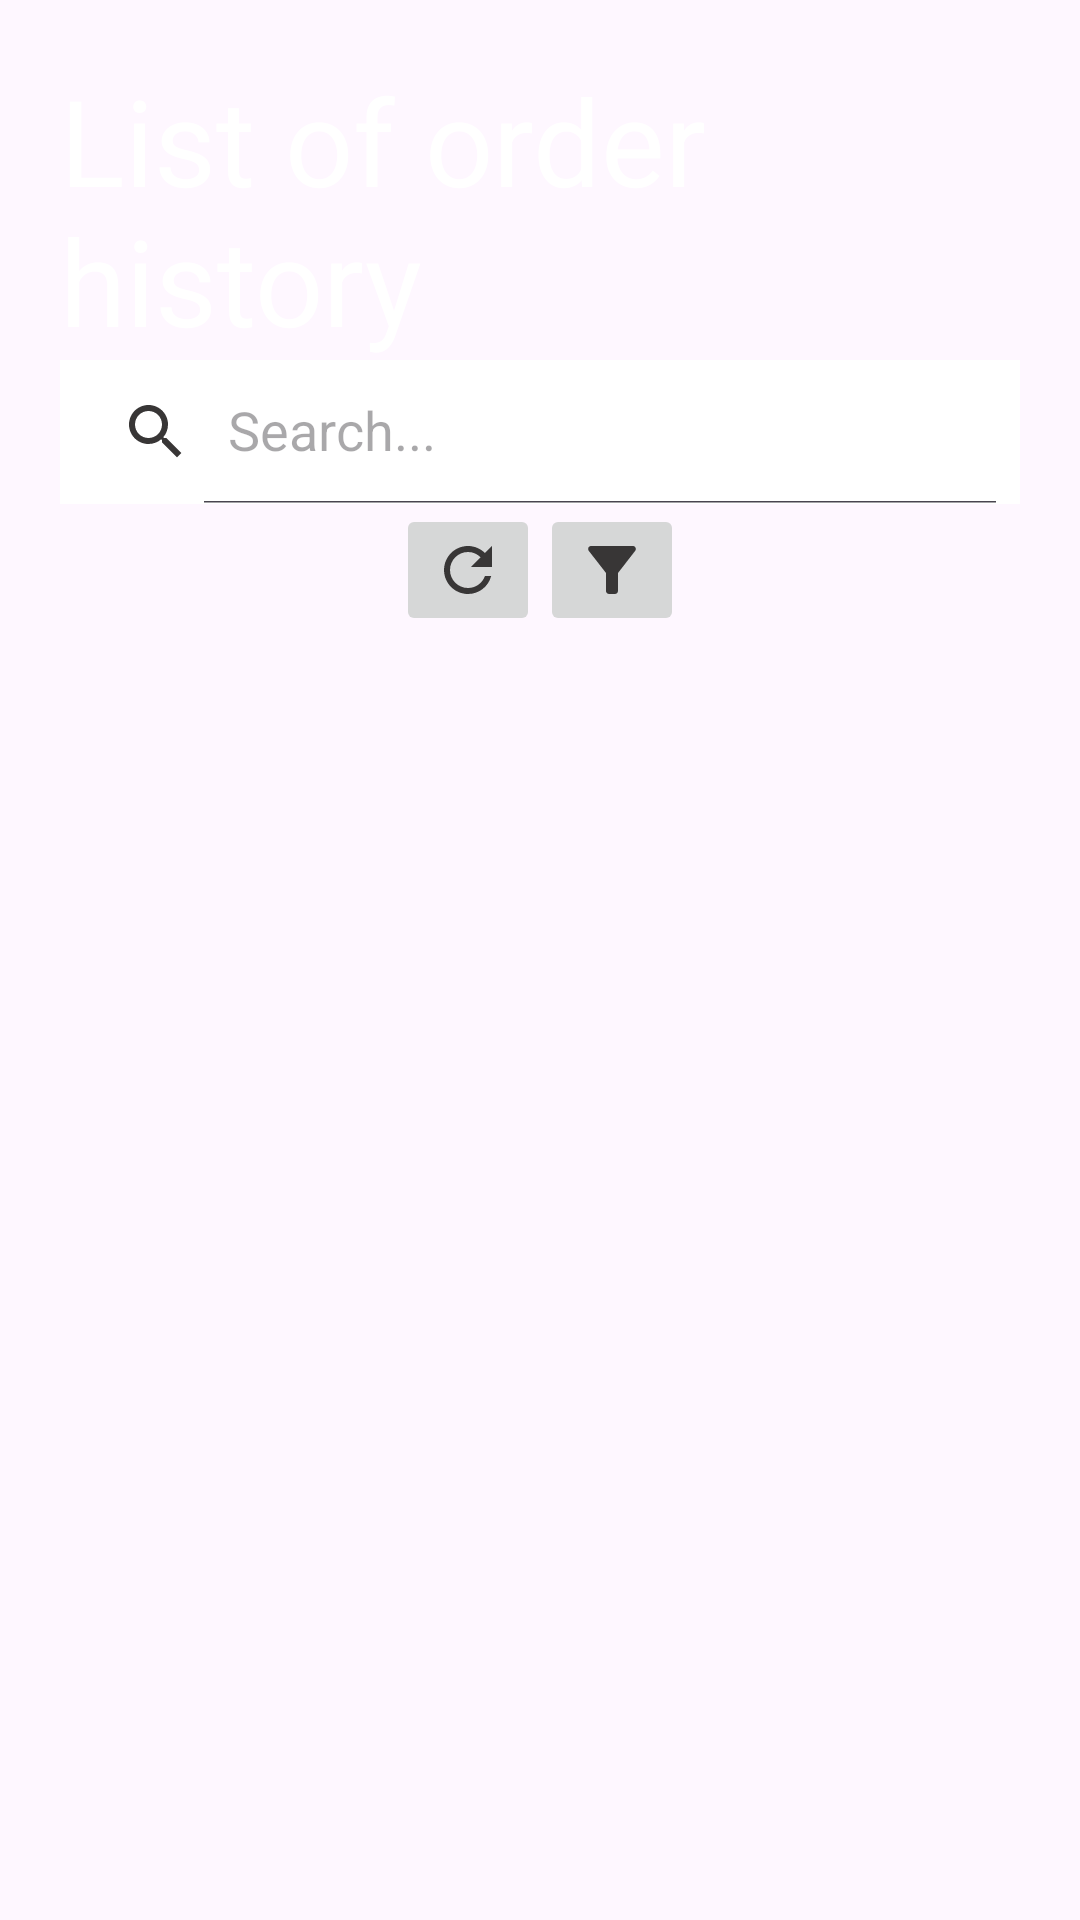

Screen size 1080w x 1920h. Icon name, then its center in pixels as [x,y]:
filter: [612,570]
refresh: [468,570]
